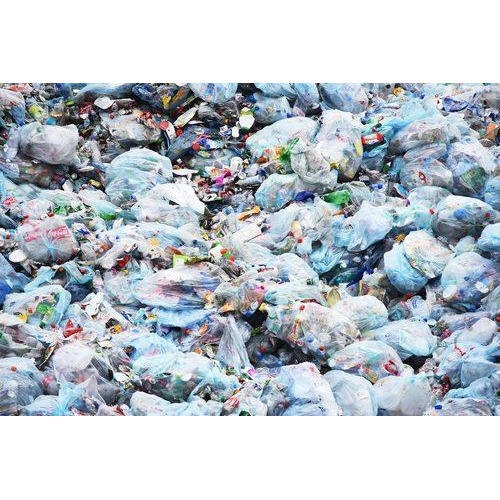plastic: (126, 251, 240, 314), (99, 141, 185, 212), (260, 300, 363, 359), (376, 222, 457, 297), (250, 352, 340, 416), (45, 339, 117, 415), (241, 109, 321, 171), (313, 101, 371, 180), (327, 197, 401, 255), (130, 177, 208, 230), (436, 246, 498, 308), (1, 281, 71, 335), (326, 337, 407, 383), (16, 213, 87, 263), (363, 369, 431, 416), (429, 193, 500, 238), (16, 116, 82, 164)
